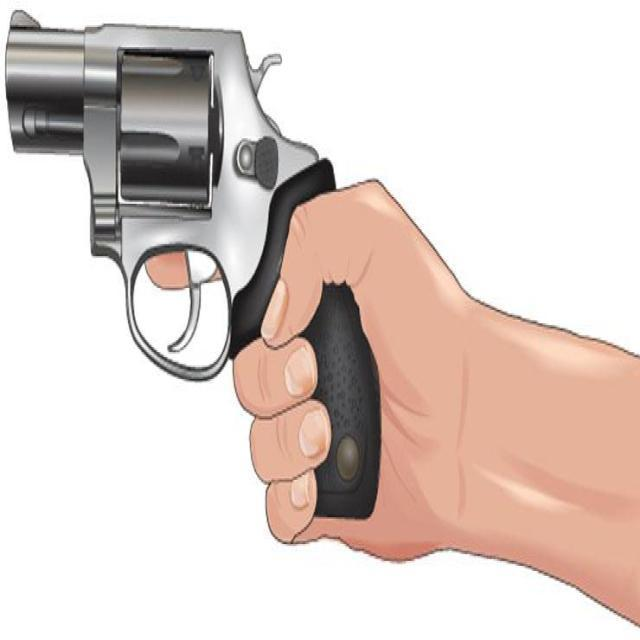Handgun: (0, 8, 394, 528)
